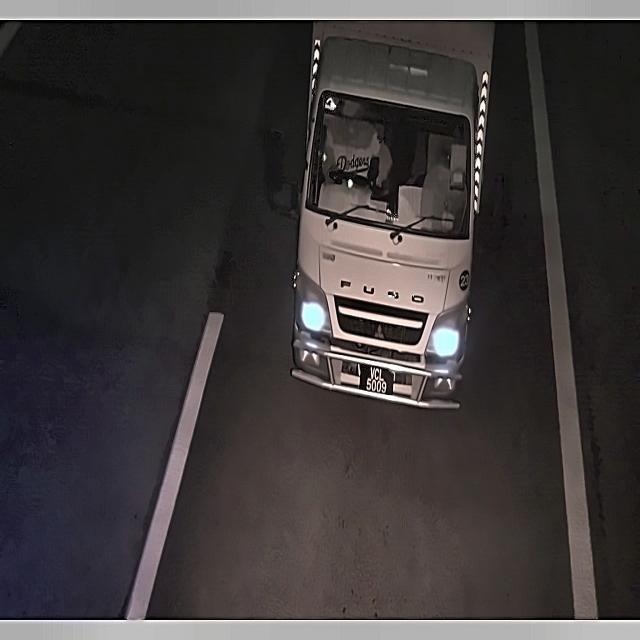car: (354, 353, 398, 400)
